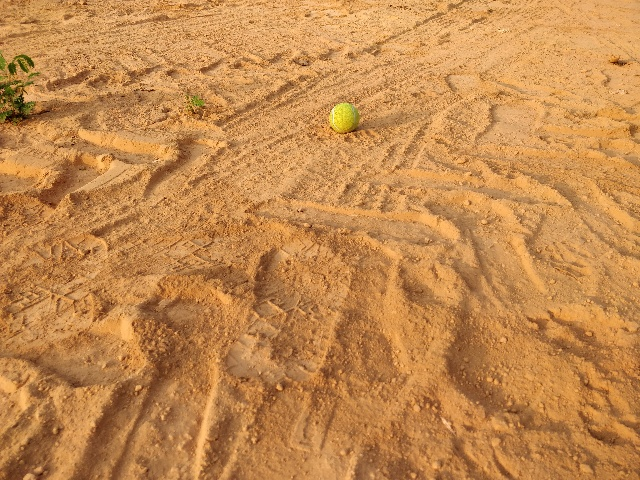ball: (325, 99, 364, 137)
